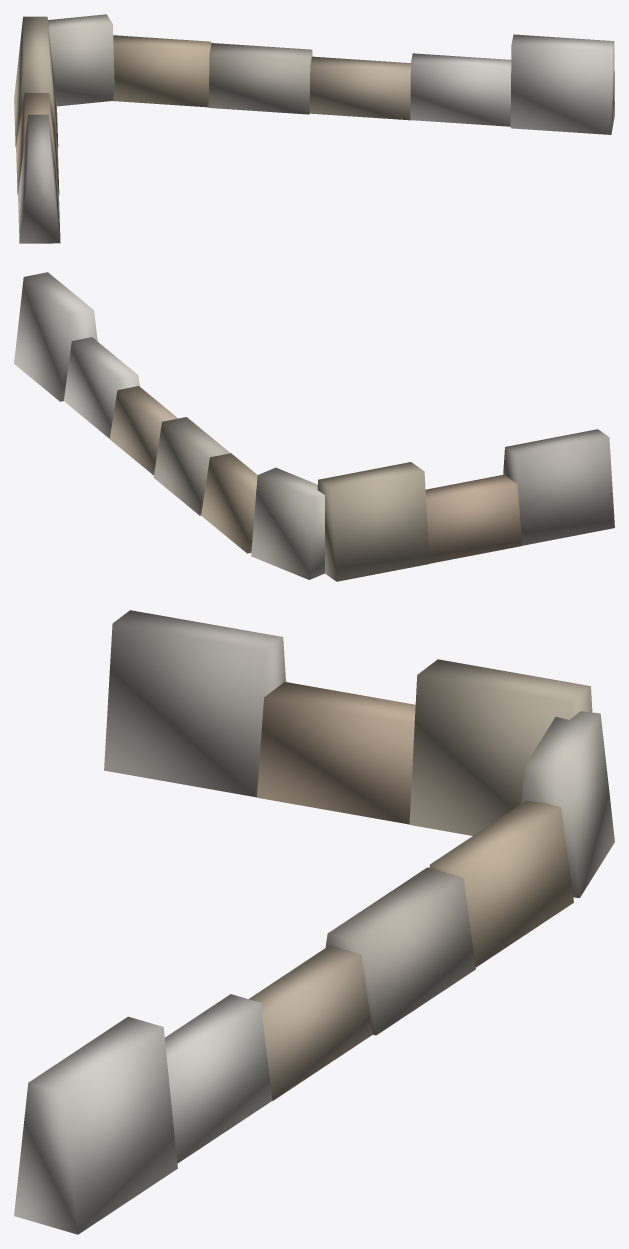
File: farm_-32_-40_collision.glb
The picture shows the model from 3 angles, top to bottom: view 1: azimuth 30°, elevation 25°; view 2: azimuth 150°, elevation 25°; view 3: azimuth 270°, elevation 25°; orthographic projection. The views are drawn at different scales.
Parts seen in each view (by area): view 1: geometry_0; view 2: geometry_0; view 3: geometry_0.
Boxes of the visible parts, <box> form: geometry_0: <box>14,14,614,243</box>; geometry_0: <box>14,272,614,581</box>; geometry_0: <box>14,610,614,1234</box>.
Size of the model in its own units: 10.44 by 1.72 by 5.42.
